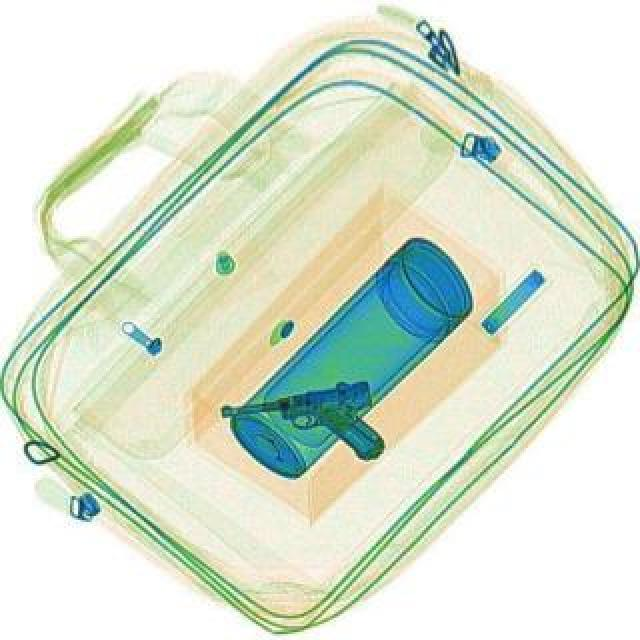gun: (222, 374, 388, 482)
